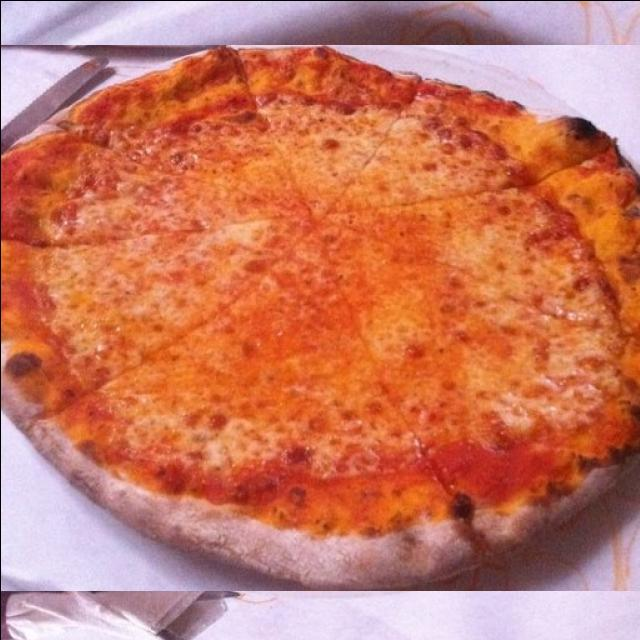pizza: (0, 44, 640, 590)
